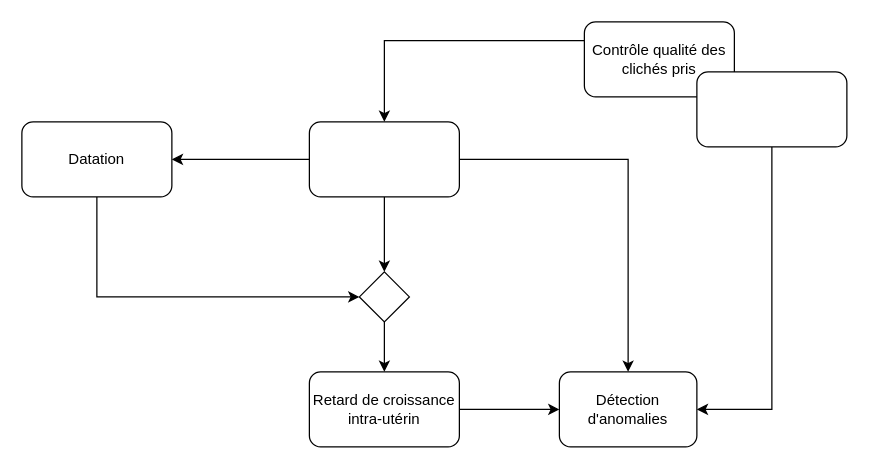
This 869x469 diagram has some shape labels left out. The centre of each missing label's shape, as x and y in pixels:
Biométries: pixel 383 159
Présence de structures: pixel 771 109
